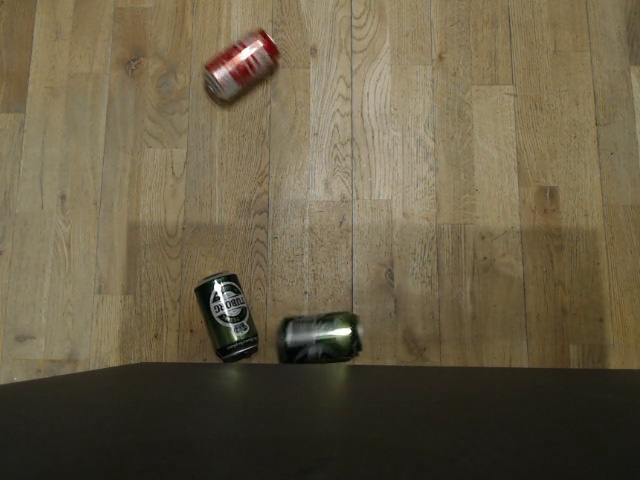beer: (192, 269, 258, 361), (275, 311, 361, 363)
cola: (205, 29, 280, 102)
